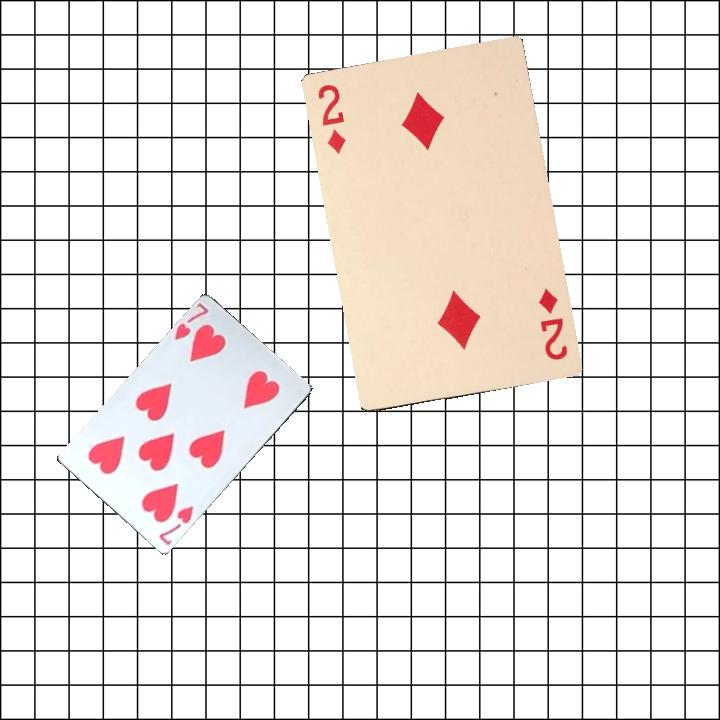2d: (534, 285, 570, 363), (314, 80, 348, 157)
7h: (155, 502, 196, 548), (170, 299, 211, 343)
